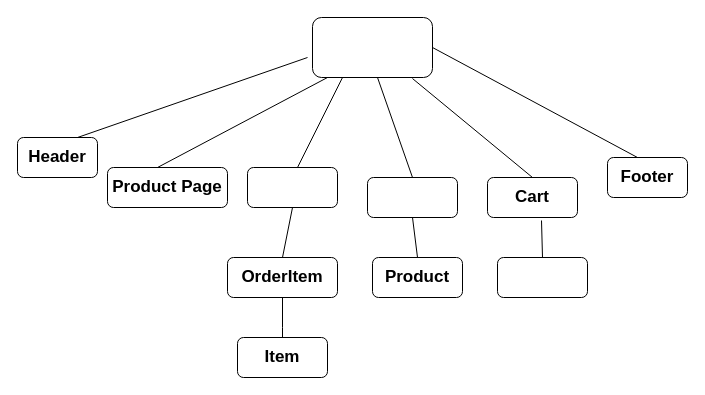
Image size: 705x395. Some labels were removed from this diagram. The shapes that lost their labels are listed below. From the top down, each one's box as (x1, y1, x2, y2) in pixels, then its label:
(312, 16, 432, 78): App
(246, 166, 338, 208): Orders
(366, 176, 458, 218): Home
(496, 256, 588, 298): CartItem
